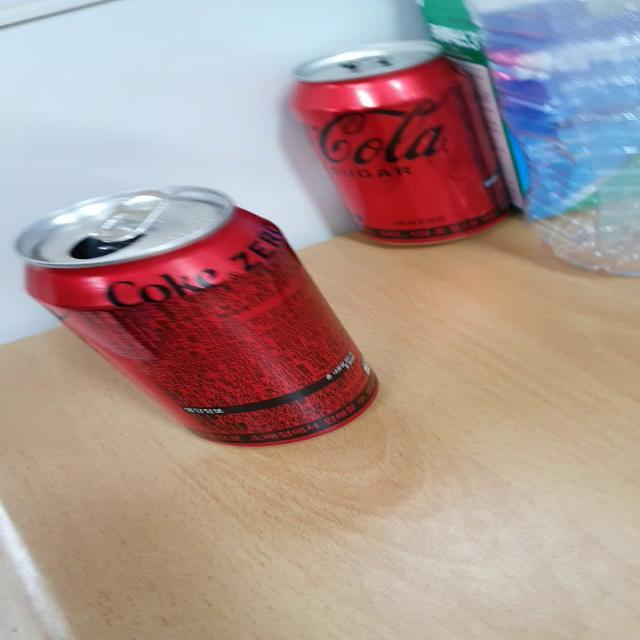coca-cola: (14, 176, 382, 452), (289, 35, 527, 255)
